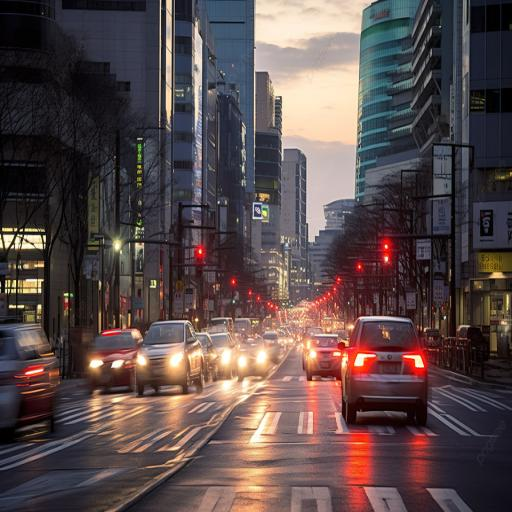car: (340, 315, 428, 426), (0, 321, 60, 435), (135, 319, 205, 395), (86, 328, 143, 392), (305, 333, 342, 380), (236, 333, 269, 381), (208, 332, 237, 378), (194, 331, 218, 382), (262, 330, 280, 362)
